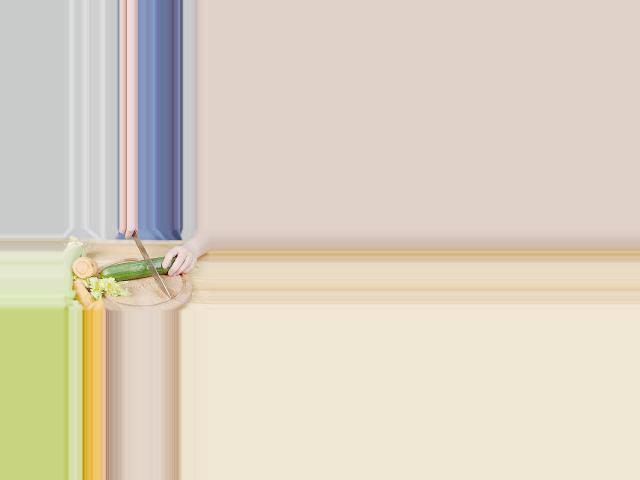cucumber: (99, 256, 176, 280)
